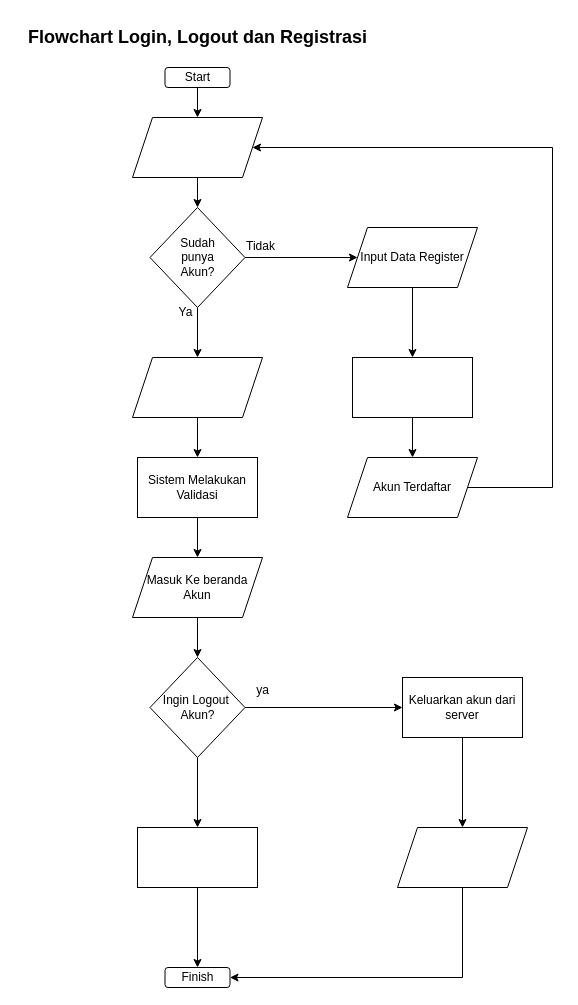
This 578x1005 diagram has some shape labels left out. The shapes that lost their labels are listed below. From the top down, each one's centre as x and y in pixels, then its label:
At (x=197, y=147): "masuk ke form login".
At (x=197, y=387): "input username dan passoword yang sudah terdaftar".
At (x=412, y=387): "Data Masuk Ke Database".
At (x=197, y=857): "Akun Tersimpan".
At (x=462, y=857): "Logout Berhasil".
